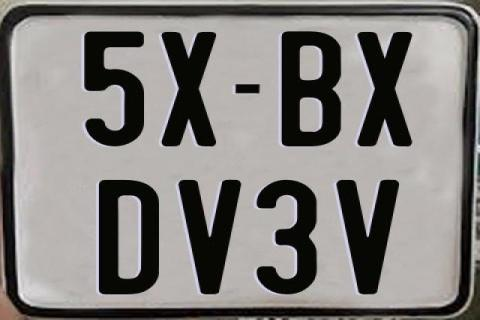0: (257, 180, 322, 296), (84, 31, 147, 149)
B: (280, 31, 345, 146)
D: (97, 180, 163, 299)
V: (176, 179, 246, 293), (336, 180, 399, 299)
X: (161, 32, 219, 151), (355, 31, 410, 145)
